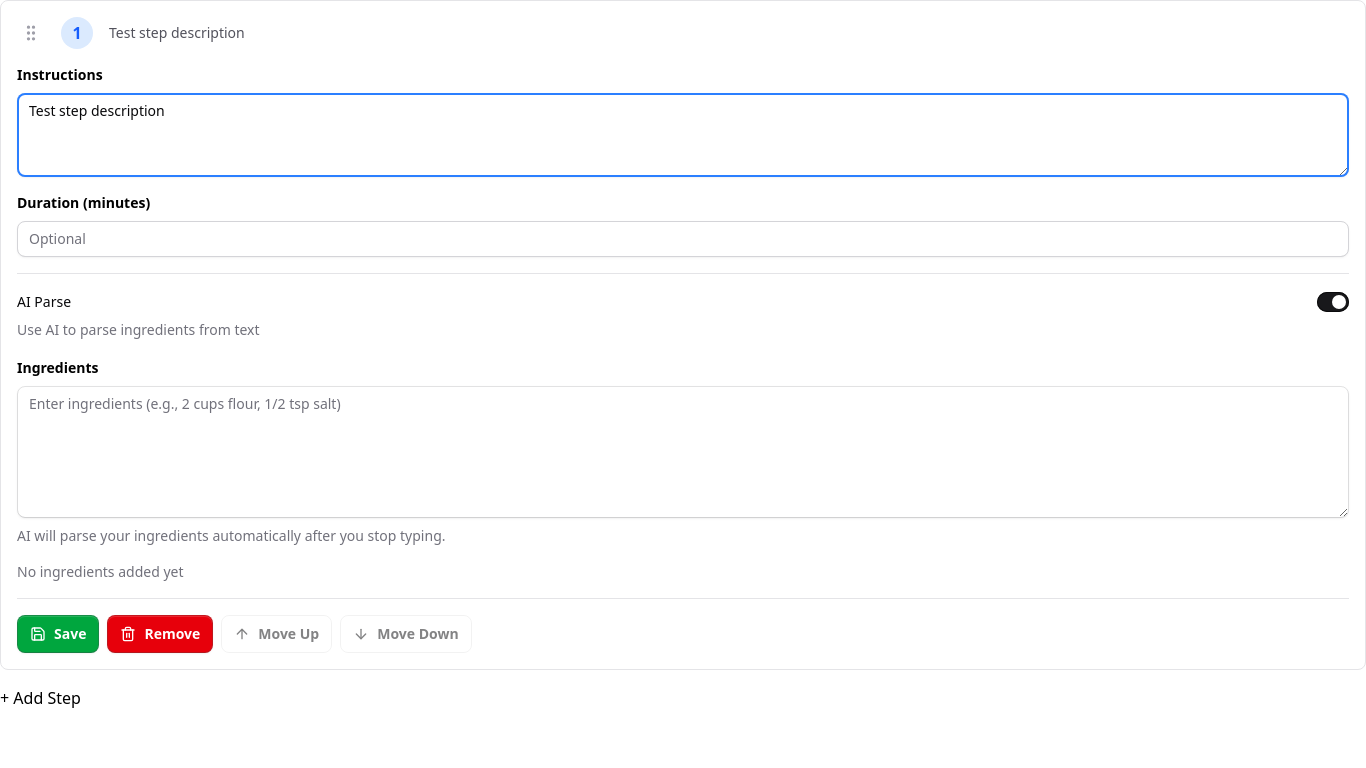
Scenario: StepList › remove step functionality › remove step shows confirmation dialog
Note: Click the remove button on the step card
Step 1. Click the button "Remove" → (160, 634), box [107,615,213,653]
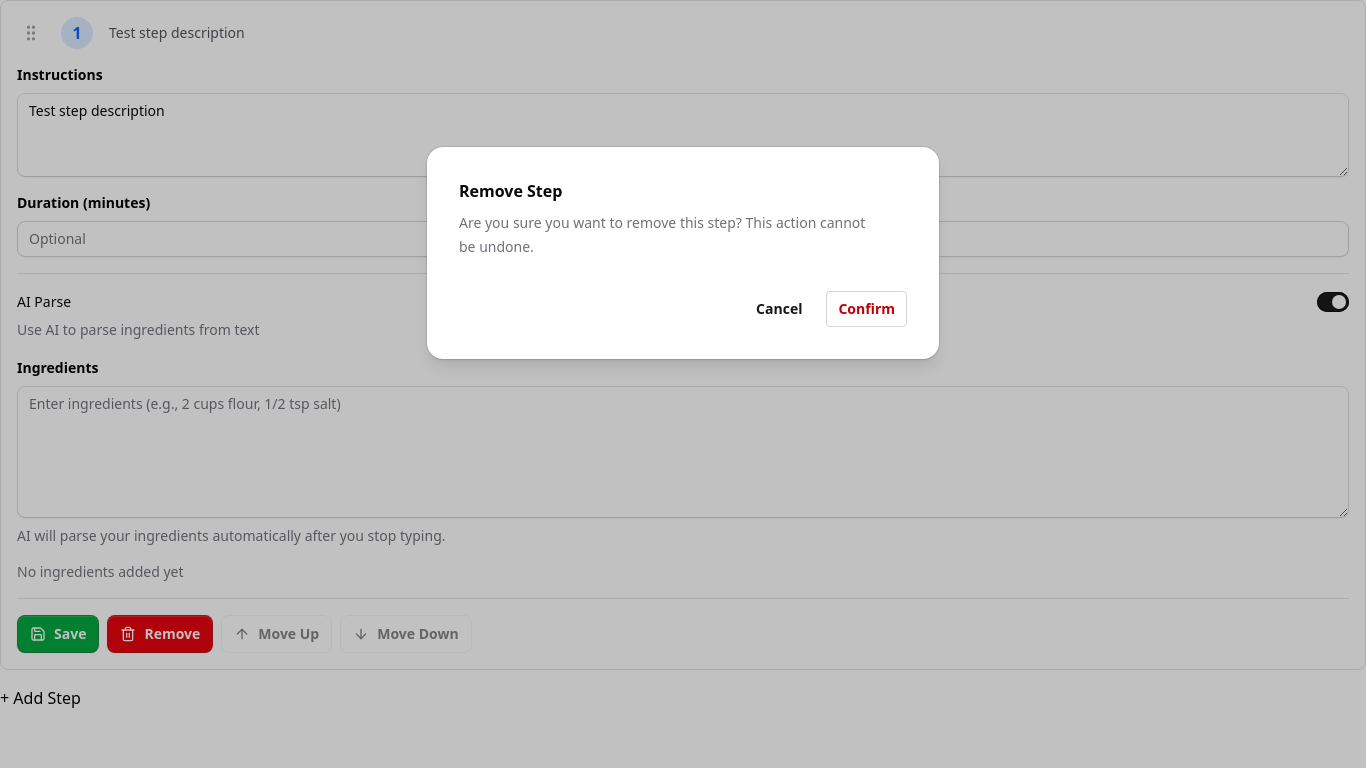
Now the text "Are you sure" is shown, box [459,213,865,256]
